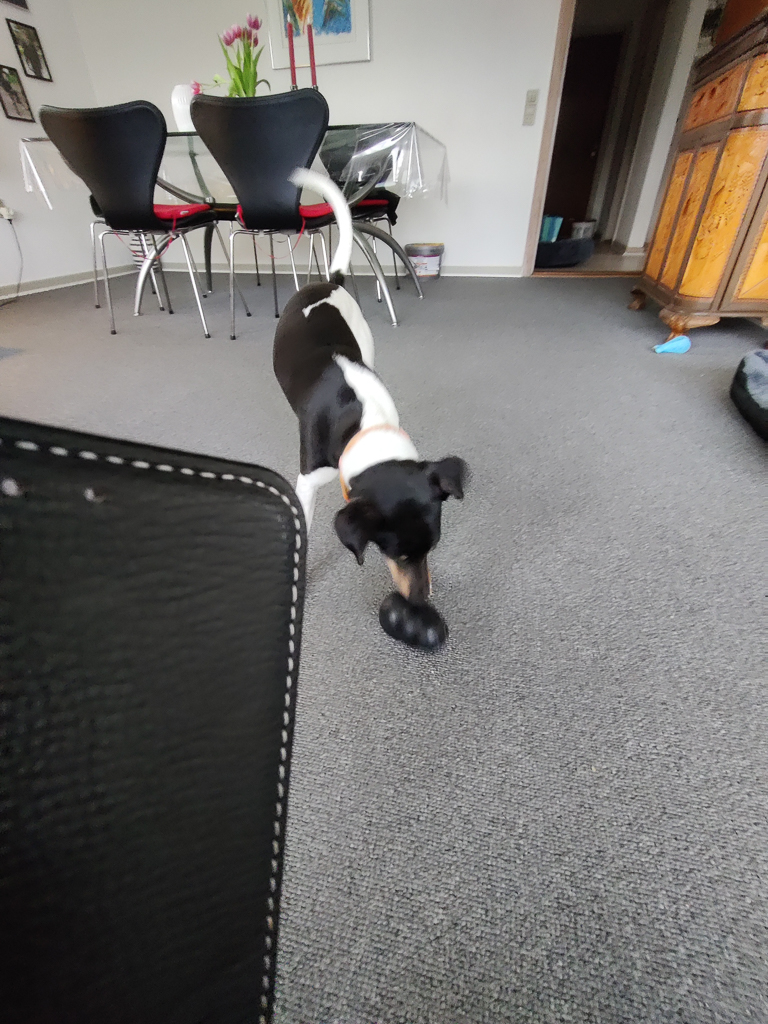Dog: (252, 151, 479, 620)
